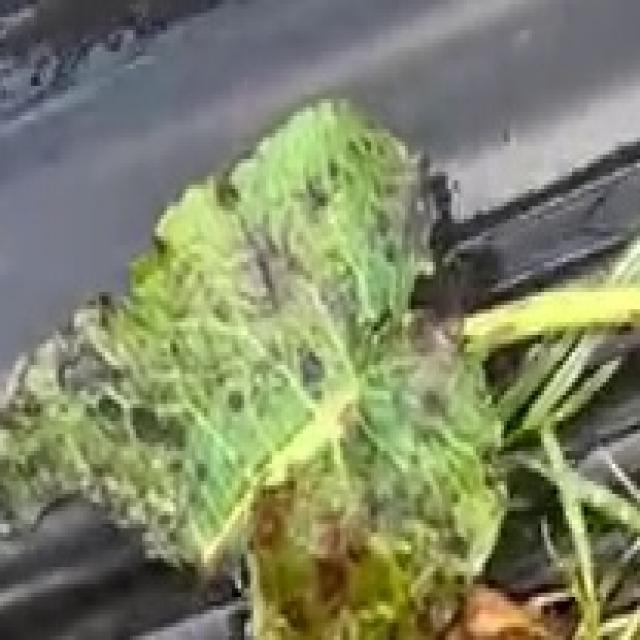organic waste: (27, 100, 599, 608)
